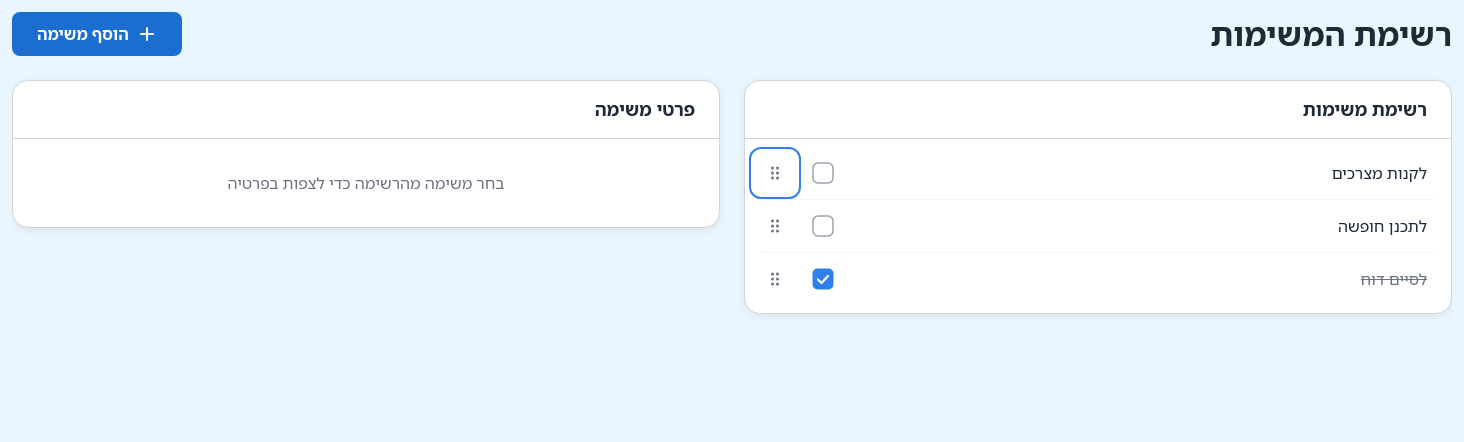
Test: HomePage – order › on 409 keeps the previous order and offers to reload the list from the server
Press Space in the button named "גרור כדי לשנות את מיקום המשימה: לקנות מצרכים", box x1=753 y1=151 x2=797 y2=195
Press ArrowDown in the button named "גרור כדי לשנות את מיקום המשימה: לקנות מצרכים", box x1=753 y1=151 x2=797 y2=195
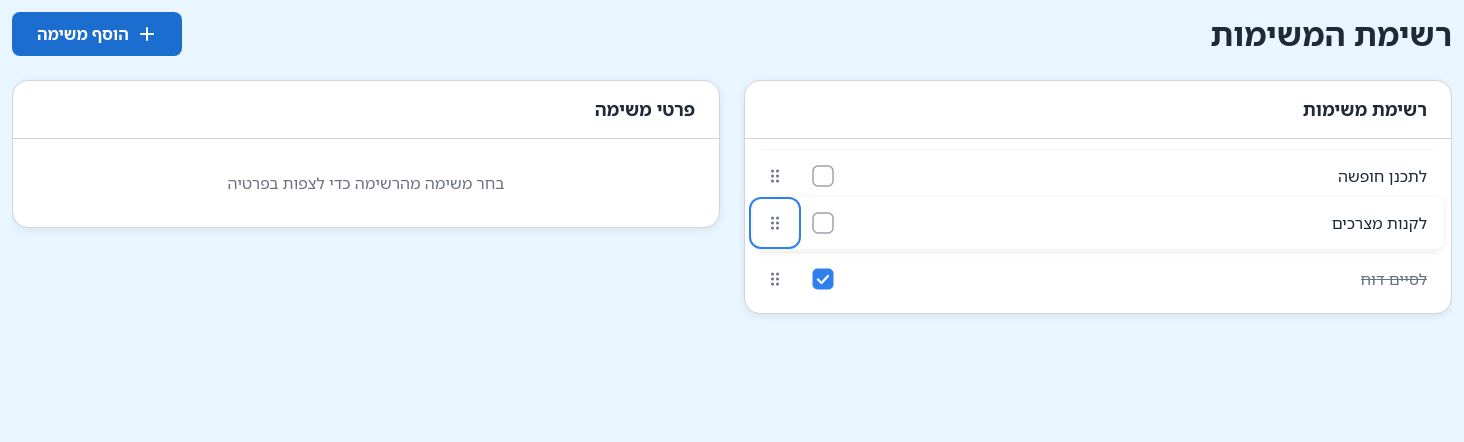
Press Space in the button named "גרור כדי לשנות את מיקום המשימה: לקנות מצרכים", box x1=753 y1=201 x2=797 y2=245
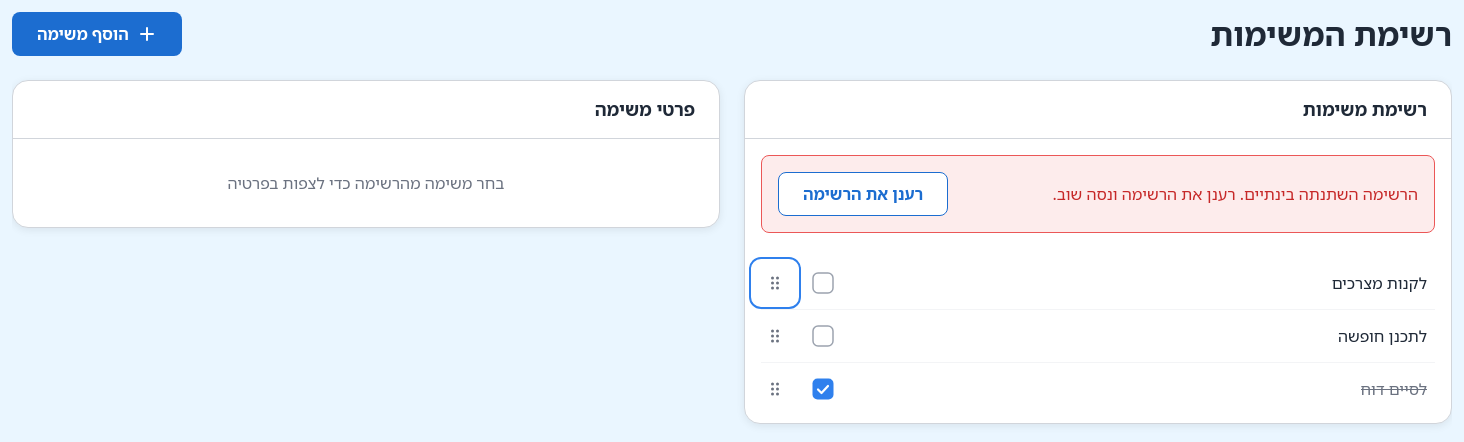
Now the text "הרשימה השתנתה בינתיים. רענן את הרשימה ונסה שוב." is shown, box x1=1052 y1=182 x2=1418 y2=206
Click the button "רענן את הרשימה" at (863,194), box x1=778 y1=172 x2=948 y2=216
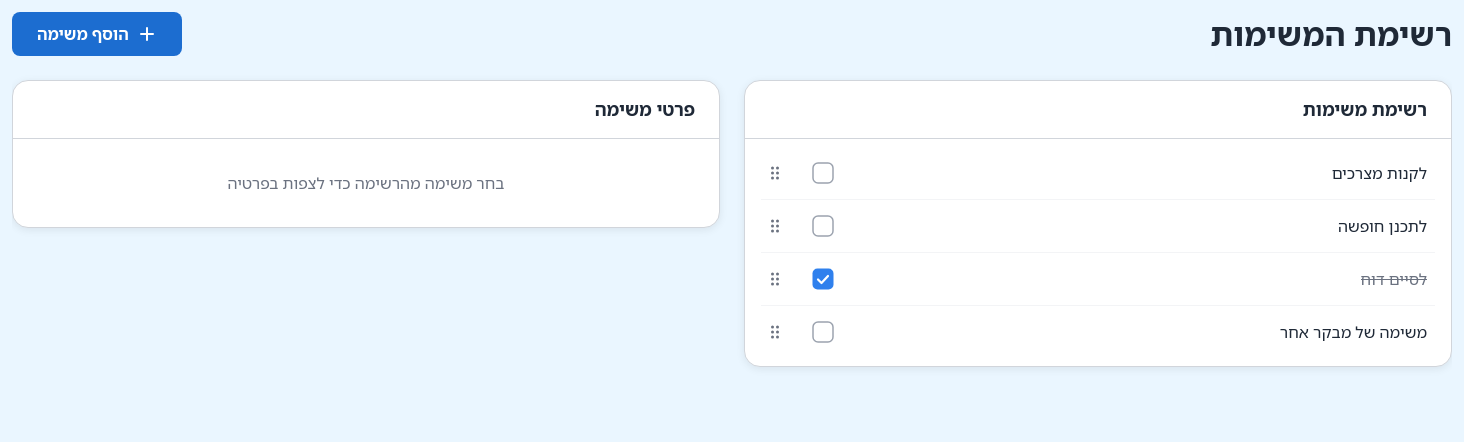
Now the text "הרשימה השתנתה בינתיים. רענן את הרשימה ונסה שוב." is gone
